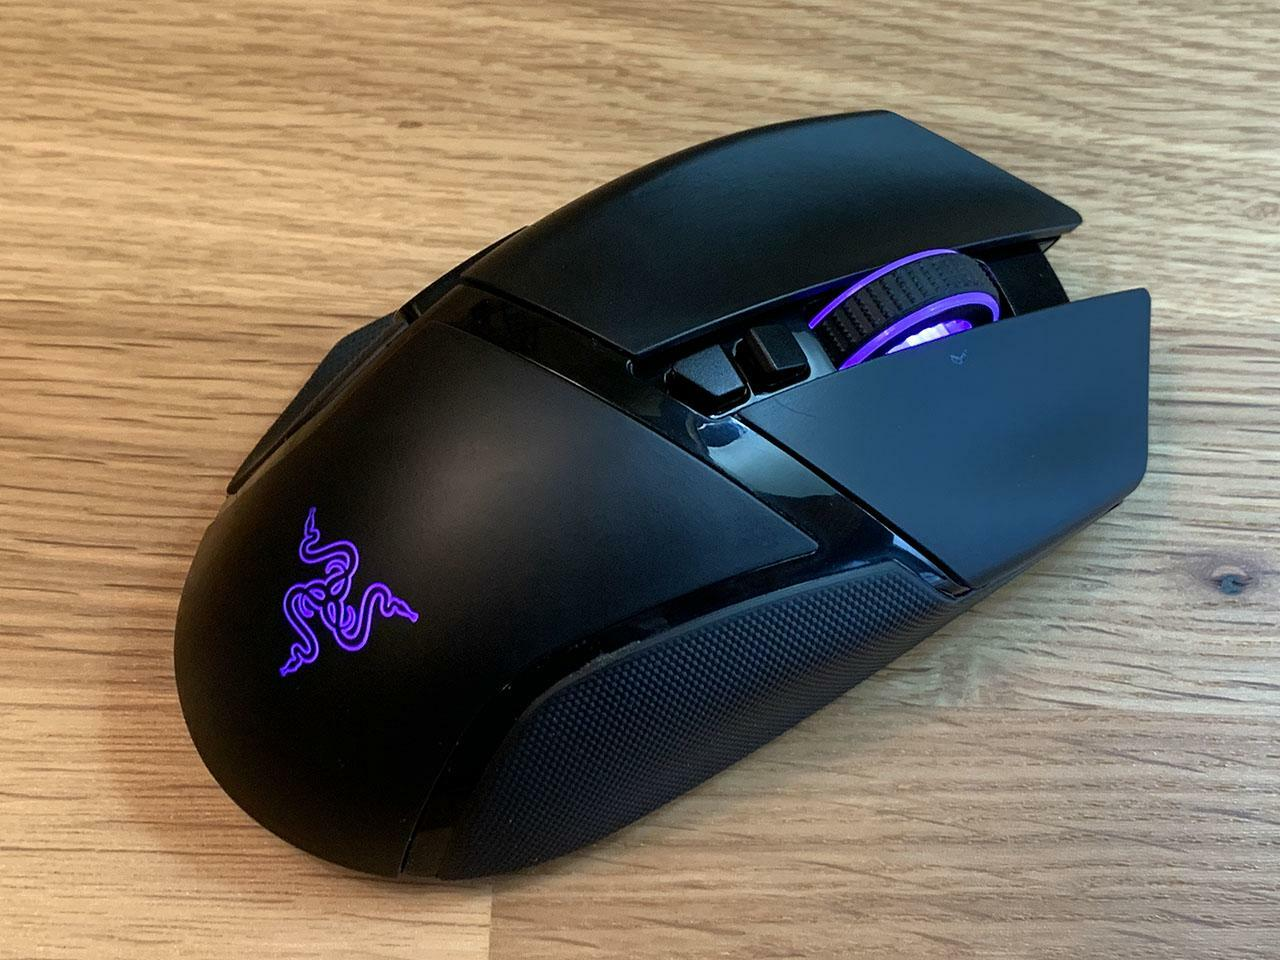mouse: (159, 95, 1150, 884)
